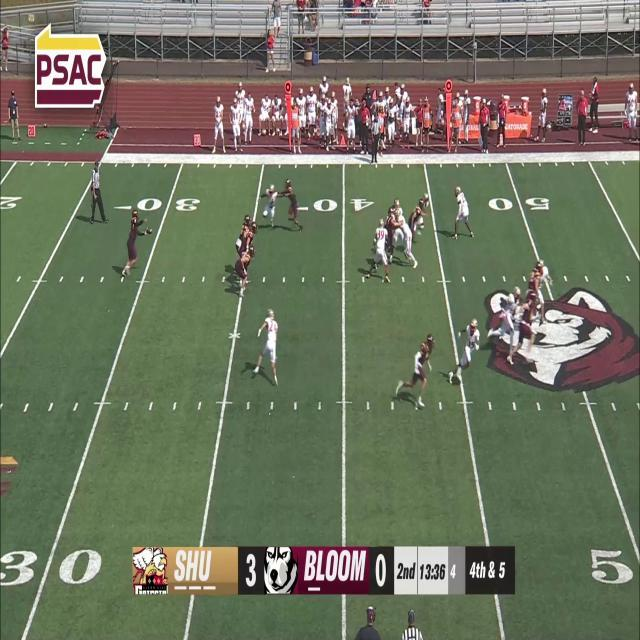football: (146, 227, 152, 235)
